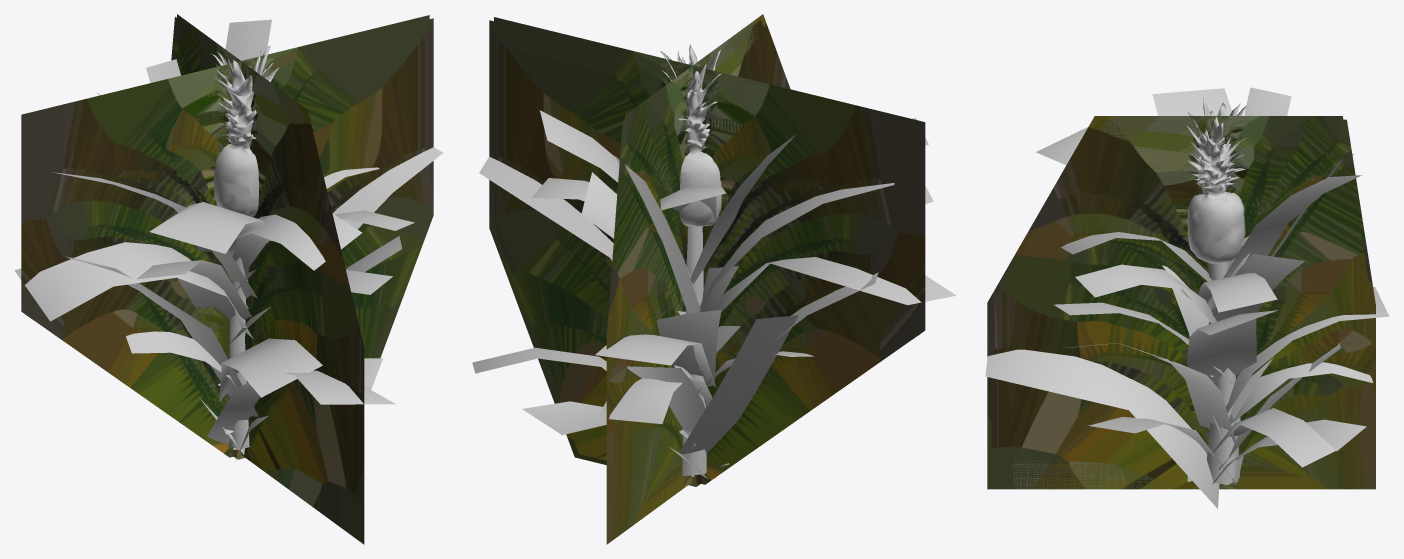
Rendered from Pineapple2.fbx.
3 views of the same model, side by side, from view 1: azimuth 30°, elevation 25°; view 2: azimuth 150°, elevation 25°; view 3: azimuth 270°, elevation 25° (orthographic). The views are drawn at different scales.
Visible parts, largest first — view 1: Billboard, LOD0; view 2: Billboard, LOD0; view 3: Billboard, LOD0.
Boxes of the visible parts, <box> form: Billboard: <box>21,14,433,544</box>; LOD0: <box>14,19,443,461</box>; Billboard: <box>489,14,925,544</box>; LOD0: <box>472,44,956,479</box>; Billboard: <box>987,116,1375,489</box>; LOD0: <box>985,87,1389,508</box>.
Size of what is drawn, in the model's own units: 106 by 101 by 93.93.
